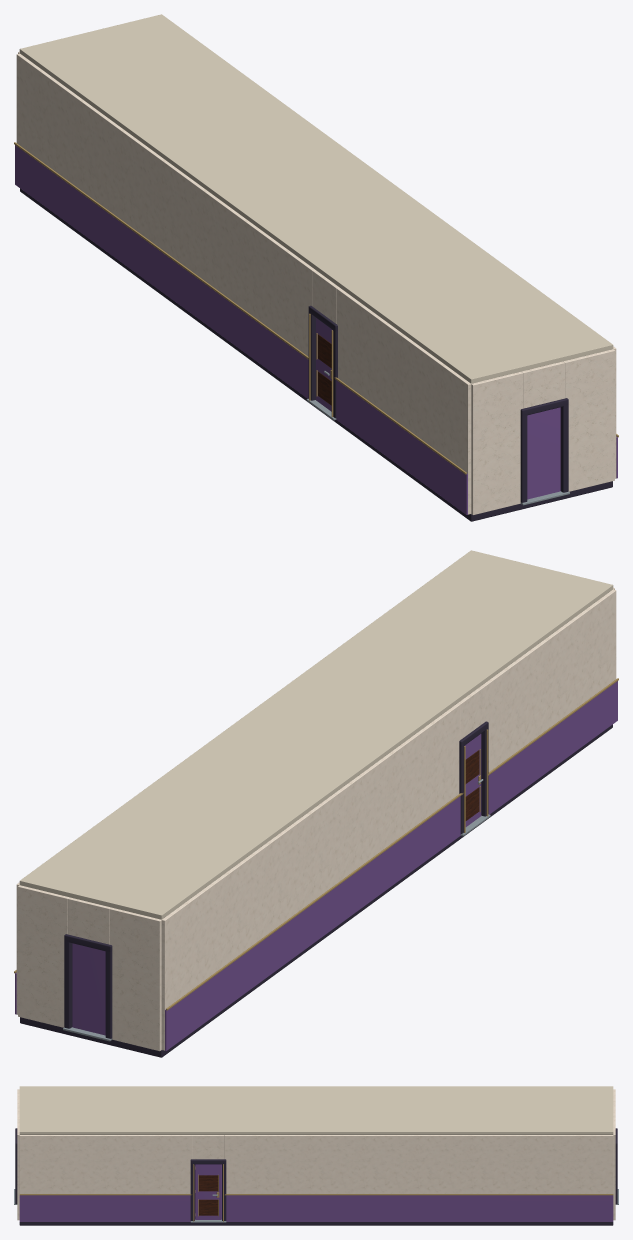
Rendered from lower_corridor.glb.
The picture shows the model from 3 angles, top to bottom: view 1: azimuth 30°, elevation 25°; view 2: azimuth 150°, elevation 25°; view 3: azimuth 270°, elevation 25°; orthographic projection. The views are drawn at different scales.
Parts seen in each view (by area): view 1: ceiling.039, wall.106, wall.107, lower_panel.105, wall.103, wall.102, lower_panel.106, front.032_leaf, lower_corridor_floor, door_lintel.025, panel_rail.105, door_lintel.027 (+2 smaller); view 2: ceiling.039, wall.106, wall.107, lower_panel.105, wall.104, wall.105, lower_panel.106, north.019_leaf, lower_corridor_floor, door_lintel.026, panel_rail.105, door_lintel.027 (+3 smaller); view 3: ceiling.039, wall.109, lower_panel.108, wall.108, lower_panel.107, lower_corridor_floor, east.019_leaf, door_lintel.028, panel_rail.108, panel_rail.107, east.019_recessed_panel, east.019_recessed_panel.001 (+4 smaller).
Boxes of the visible parts, bbox=[...] form: ceiling.039: bbox=[19, 14, 613, 383]; wall.106: bbox=[16, 53, 314, 356]; wall.107: bbox=[336, 287, 471, 514]; lower_panel.105: bbox=[15, 145, 308, 398]; wall.103: bbox=[471, 371, 522, 515]; wall.102: bbox=[563, 349, 614, 491]; lower_panel.106: bbox=[336, 380, 467, 514]; front.032_leaf: bbox=[527, 407, 560, 499]; lower_corridor_floor: bbox=[20, 188, 612, 521]; door_lintel.025: bbox=[521, 361, 564, 408]; panel_rail.105: bbox=[14, 142, 308, 359]; door_lintel.027: bbox=[312, 270, 339, 323]; ceiling.039: bbox=[19, 550, 613, 919]; wall.106: bbox=[161, 703, 460, 1050]; wall.107: bbox=[482, 589, 616, 771]; lower_panel.105: bbox=[165, 796, 460, 1050]; wall.104: bbox=[110, 907, 161, 1051]; wall.105: bbox=[18, 885, 69, 1027]; lower_panel.106: bbox=[488, 681, 617, 814]; north.019_leaf: bbox=[72, 943, 105, 1035]; lower_corridor_floor: bbox=[20, 724, 612, 1057]; door_lintel.026: bbox=[68, 897, 111, 944]; panel_rail.105: bbox=[166, 793, 463, 1010]; door_lintel.027: bbox=[457, 685, 484, 739]; ceiling.039: bbox=[19, 1086, 613, 1134]; wall.109: bbox=[224, 1135, 613, 1193]; lower_panel.108: bbox=[226, 1195, 613, 1221]; wall.108: bbox=[19, 1135, 192, 1193]; lower_panel.107: bbox=[19, 1195, 190, 1221]; lower_corridor_floor: bbox=[19, 1222, 613, 1225]; east.019_leaf: bbox=[195, 1164, 221, 1219]; door_lintel.028: bbox=[192, 1135, 224, 1159]; panel_rail.108: bbox=[225, 1194, 613, 1195]; panel_rail.107: bbox=[19, 1194, 191, 1195]; east.019_recessed_panel: bbox=[199, 1199, 218, 1215]; east.019_recessed_panel.001: bbox=[199, 1175, 218, 1191].
Bounding box in the file's own units: 4.42 × 3.84 × 22.42.
8 materials, 2 textured.
